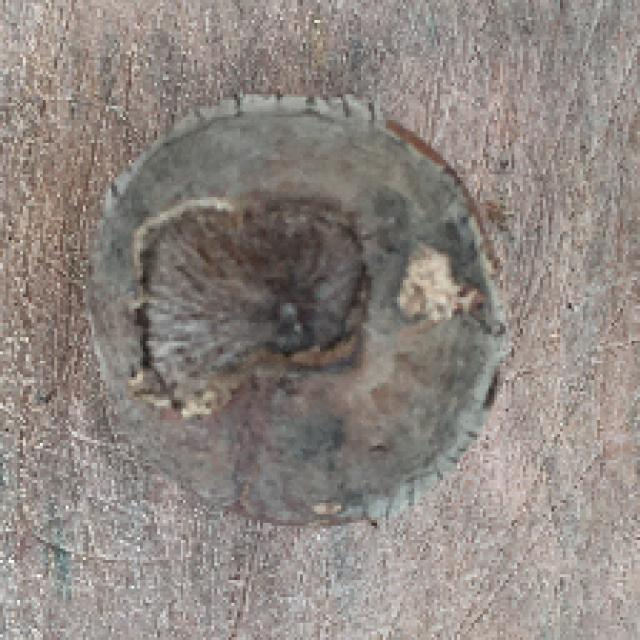damagedHazelnut: (74, 83, 513, 545)
